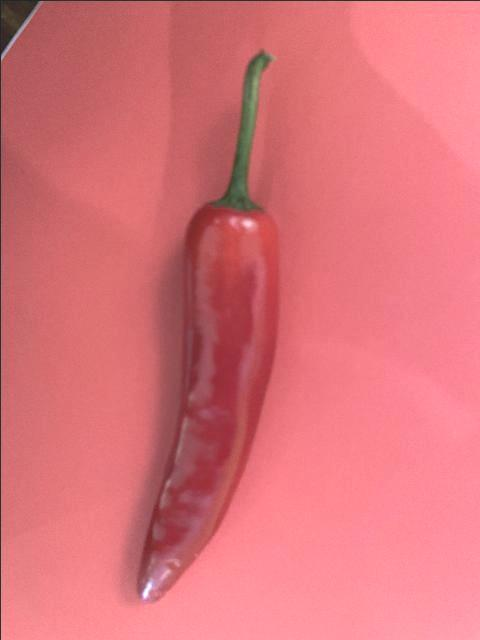chilli: (132, 47, 284, 608)
